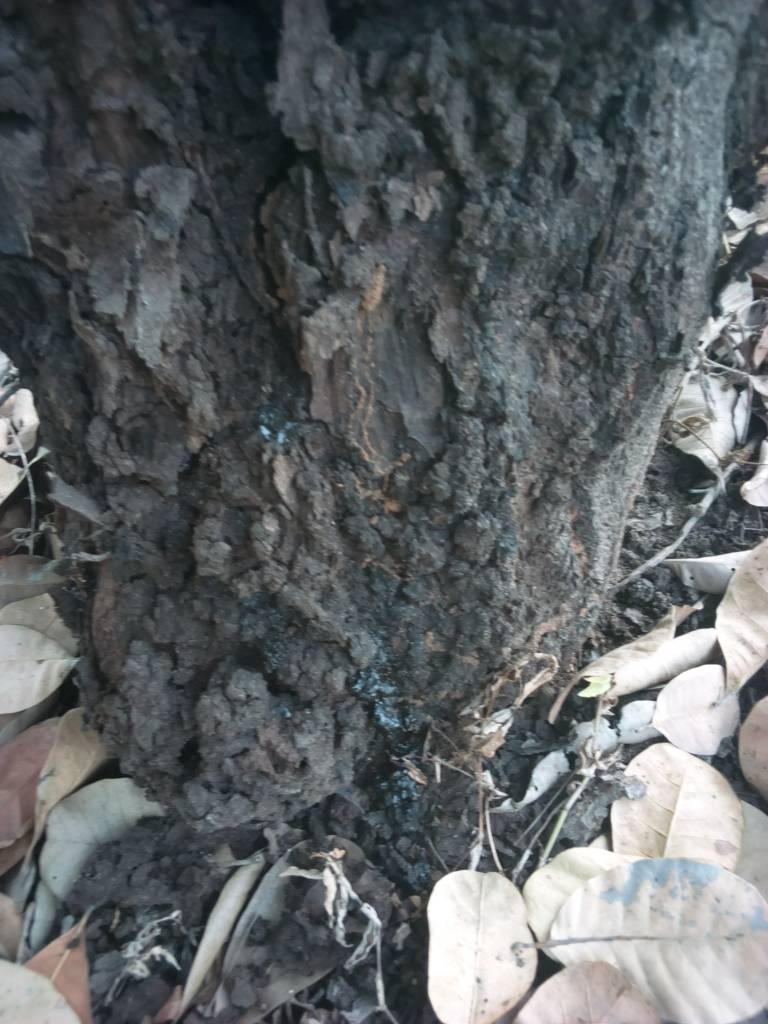Termites: (83, 44, 593, 775)
